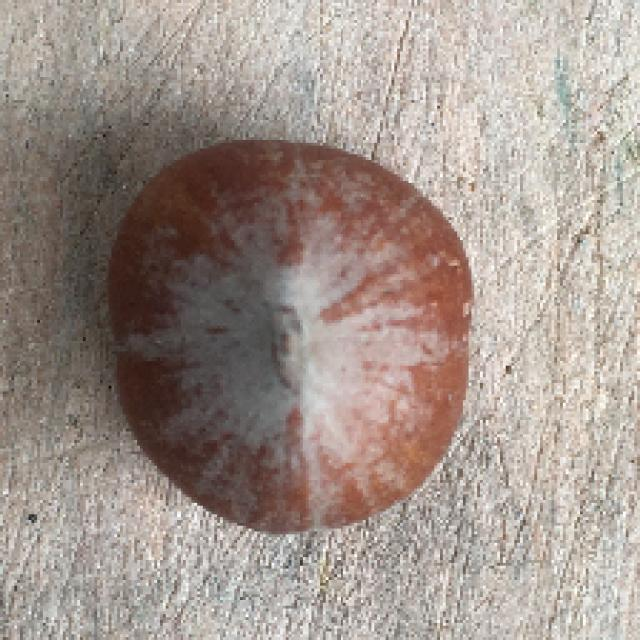QualityHazelnut: (105, 137, 479, 543)
